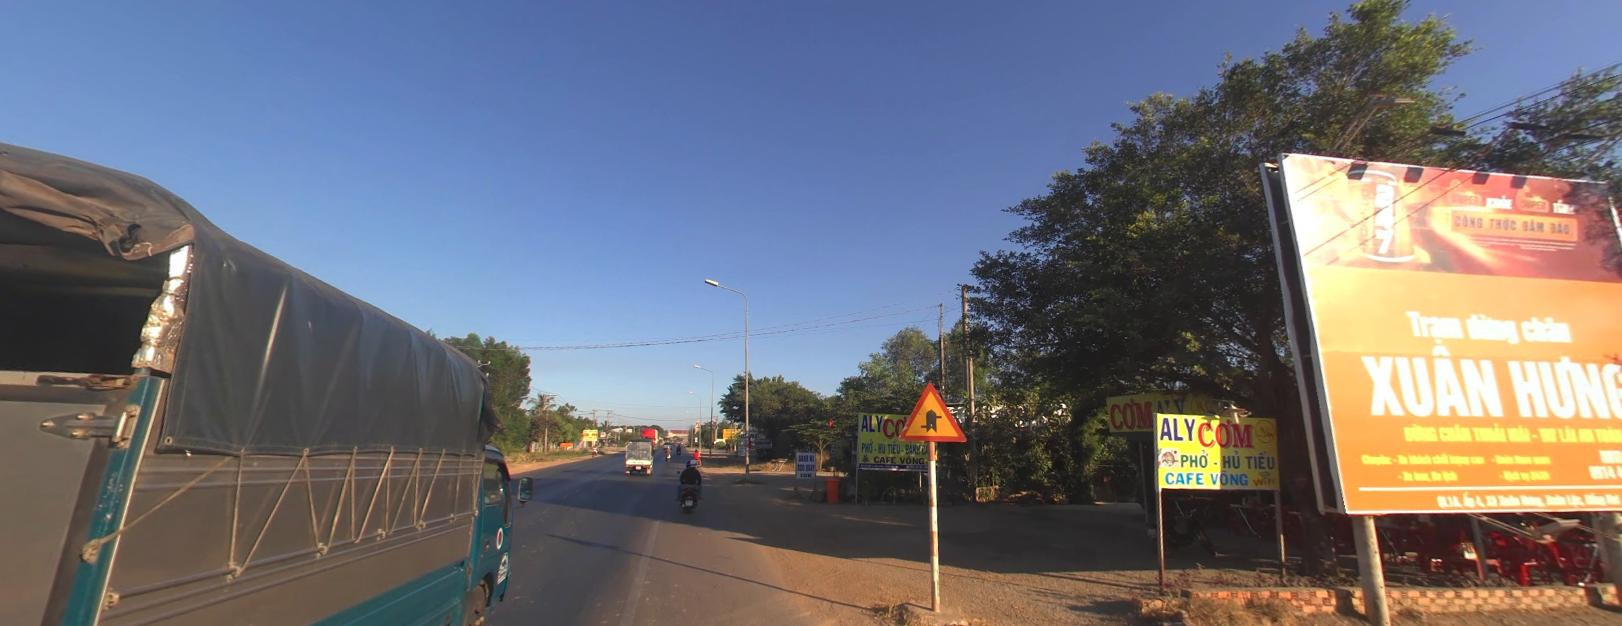Nguy hiem: (897, 380, 966, 440)
